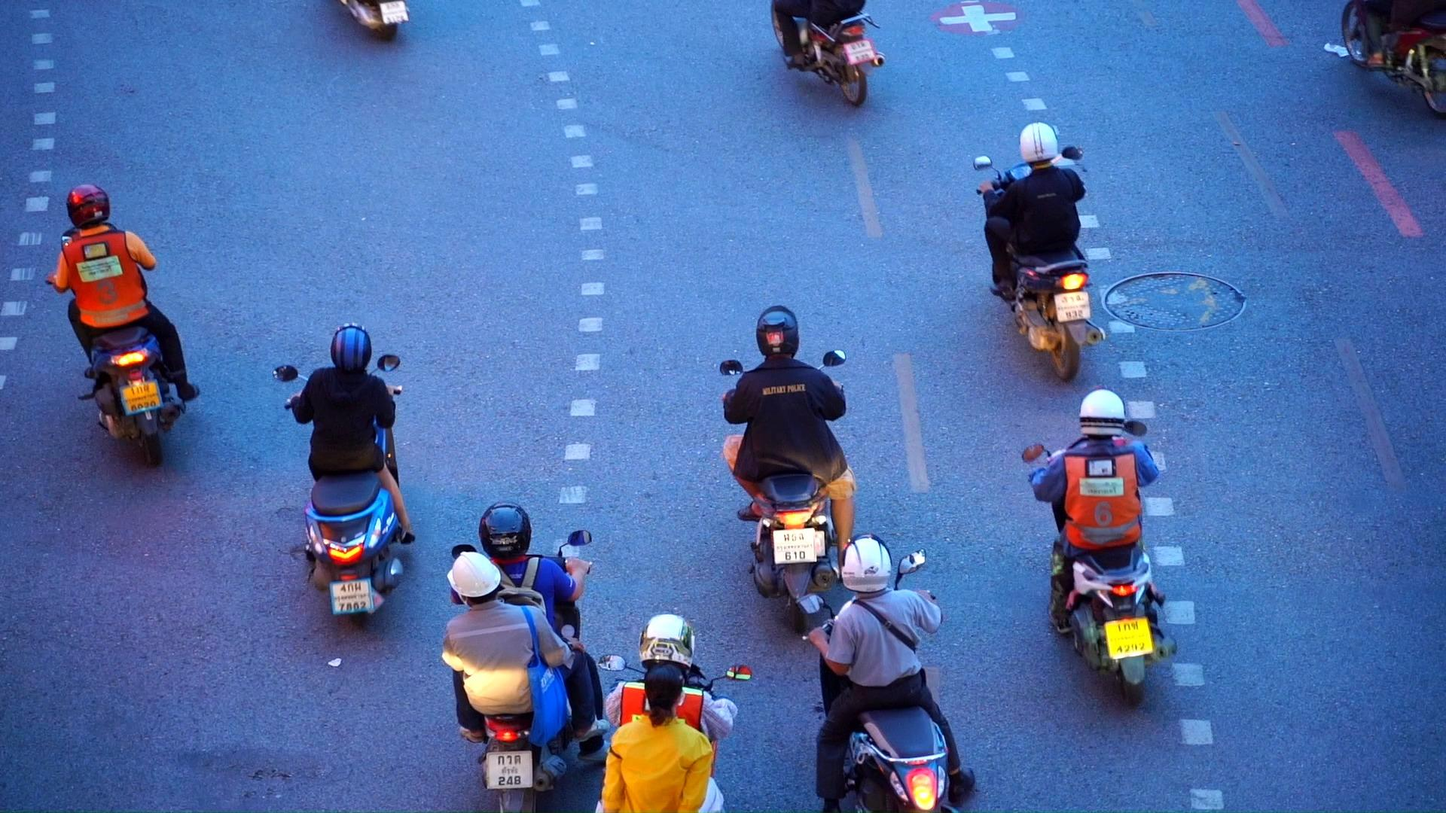driver: (442, 501, 612, 813), (793, 532, 975, 813), (1022, 386, 1177, 709), (721, 306, 857, 636), (272, 322, 416, 625), (46, 184, 199, 468), (972, 118, 1107, 384), (594, 613, 750, 813), (1342, 1, 1446, 120), (771, 0, 887, 106)
helmet: (638, 613, 696, 675), (841, 532, 893, 594), (479, 501, 532, 561), (447, 552, 501, 608), (1079, 386, 1126, 439), (756, 305, 799, 362), (330, 322, 372, 376), (67, 185, 111, 231), (1019, 119, 1059, 169)
no-helmet: (645, 663, 686, 728)
